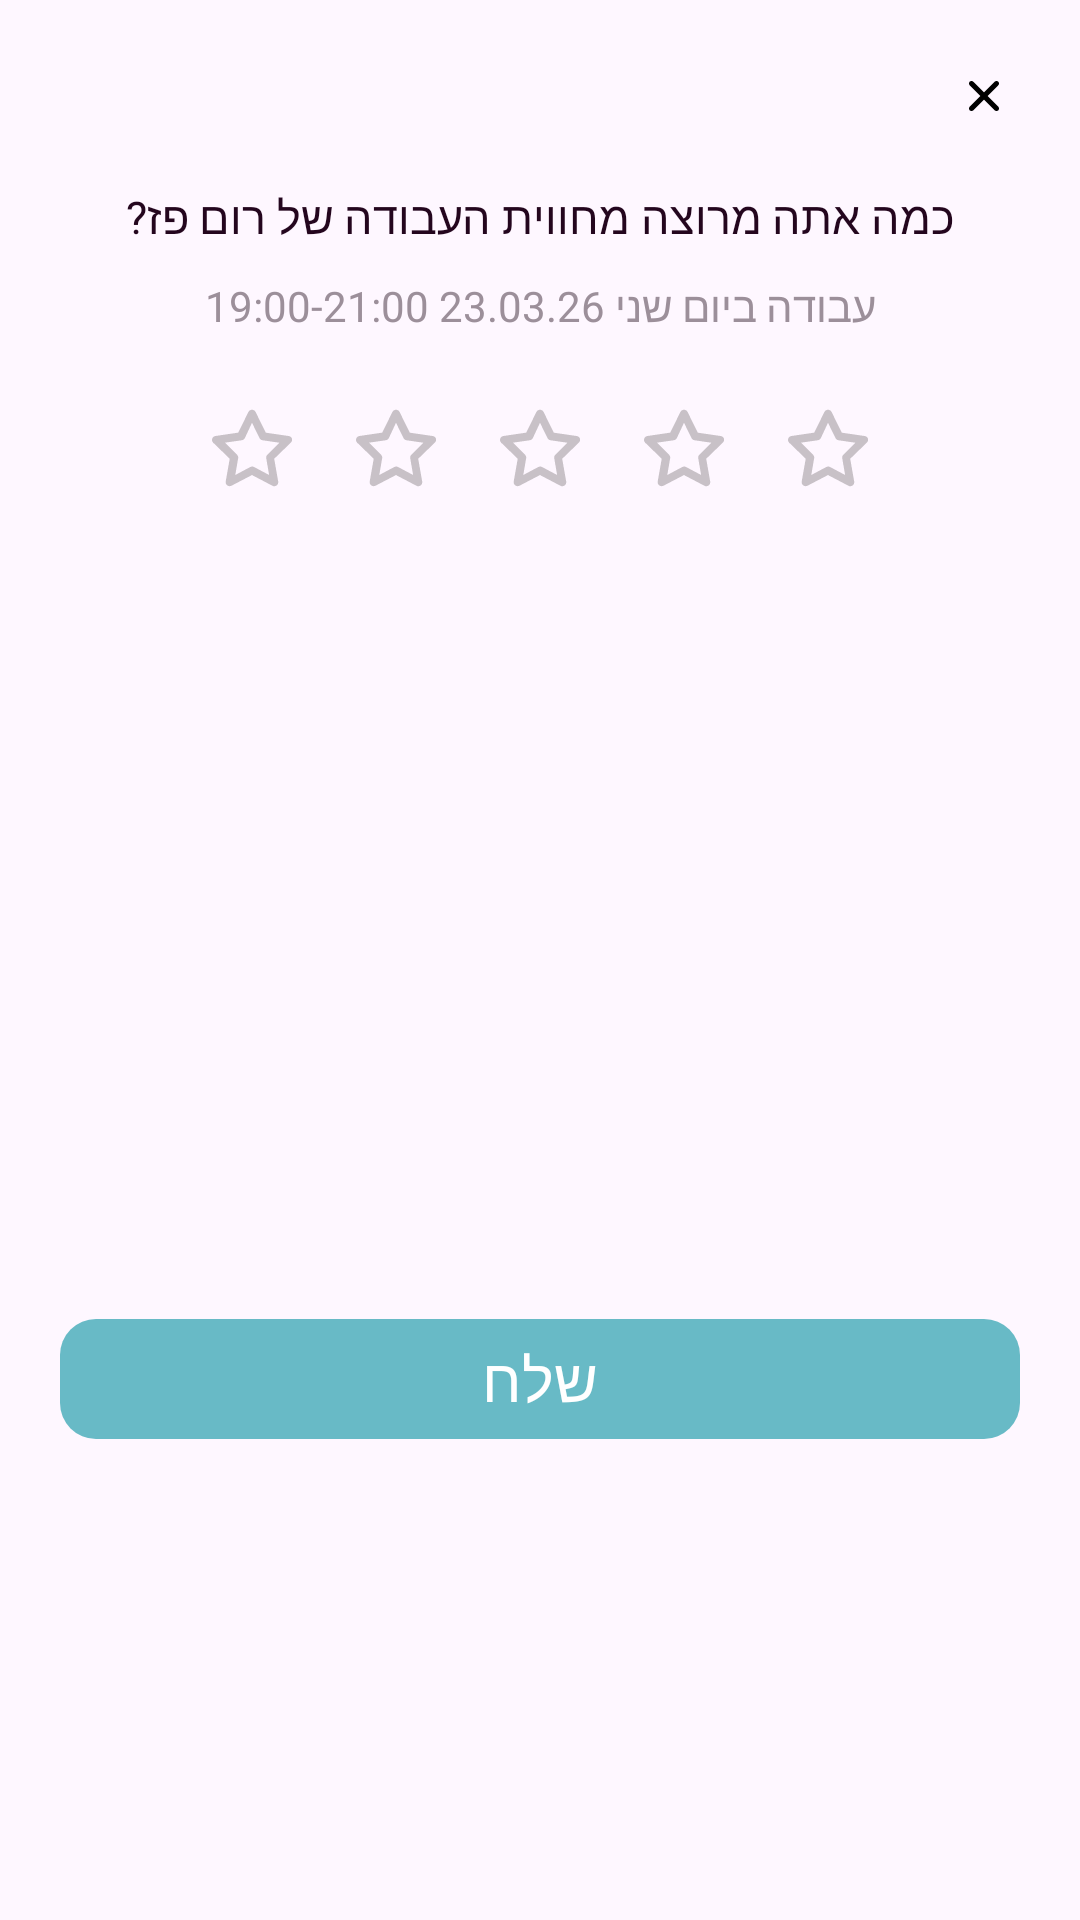

Point at icon controls on the screen. Image size 1080w x 1920h, points as point (x, y).
close: point (984, 96)
star: point (252, 448), point (396, 448), point (540, 448), point (684, 448), point (828, 448)
